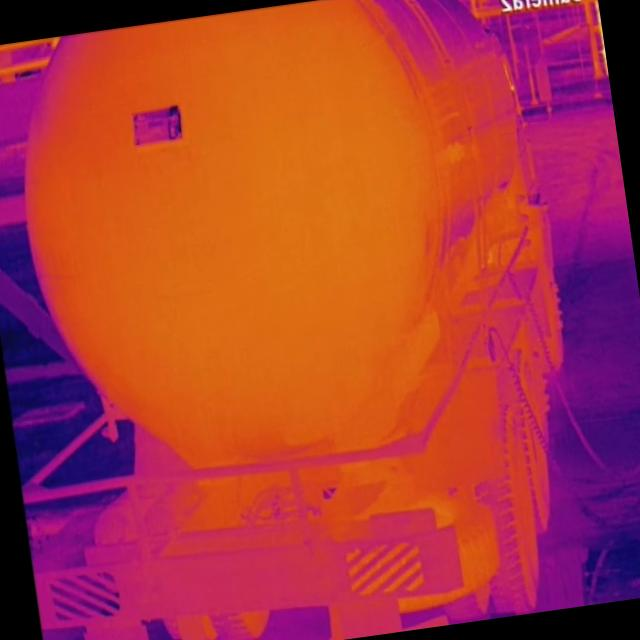tank: (1, 0, 470, 481)
